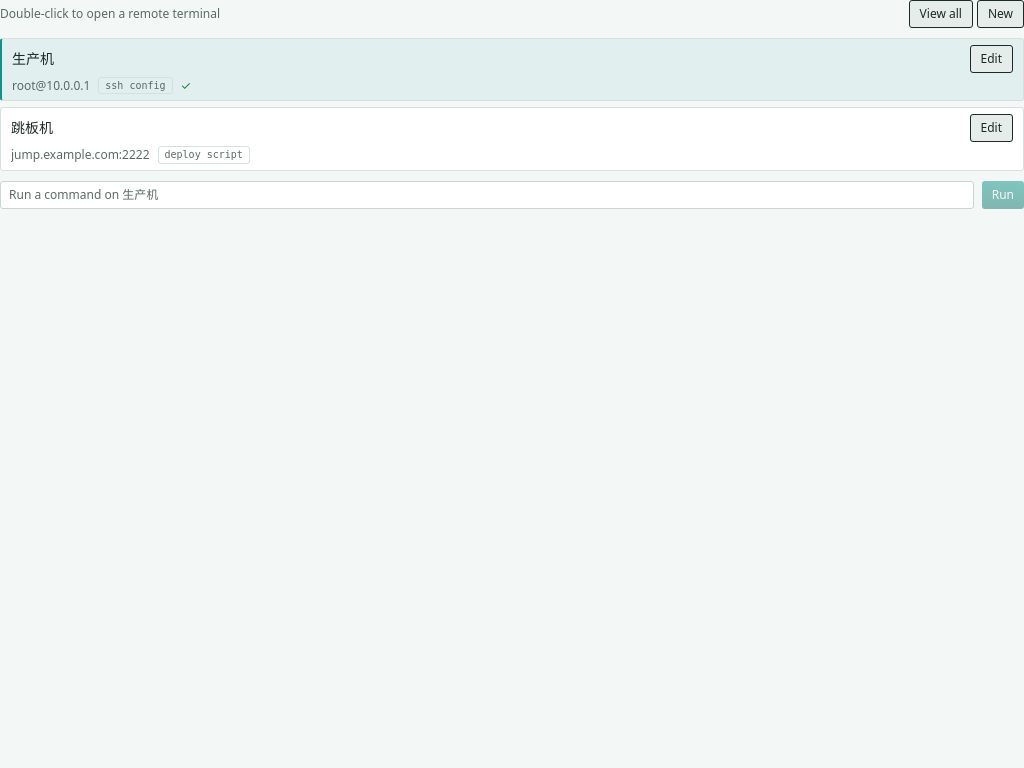
Test: SshPanel › 编辑表单含密码字段（type=password）与明文保存提示
The width and height of the screenshot is (1024, 768).
Click the 1st button "Edit" at (991, 59), box 970,45 -> 1013,73
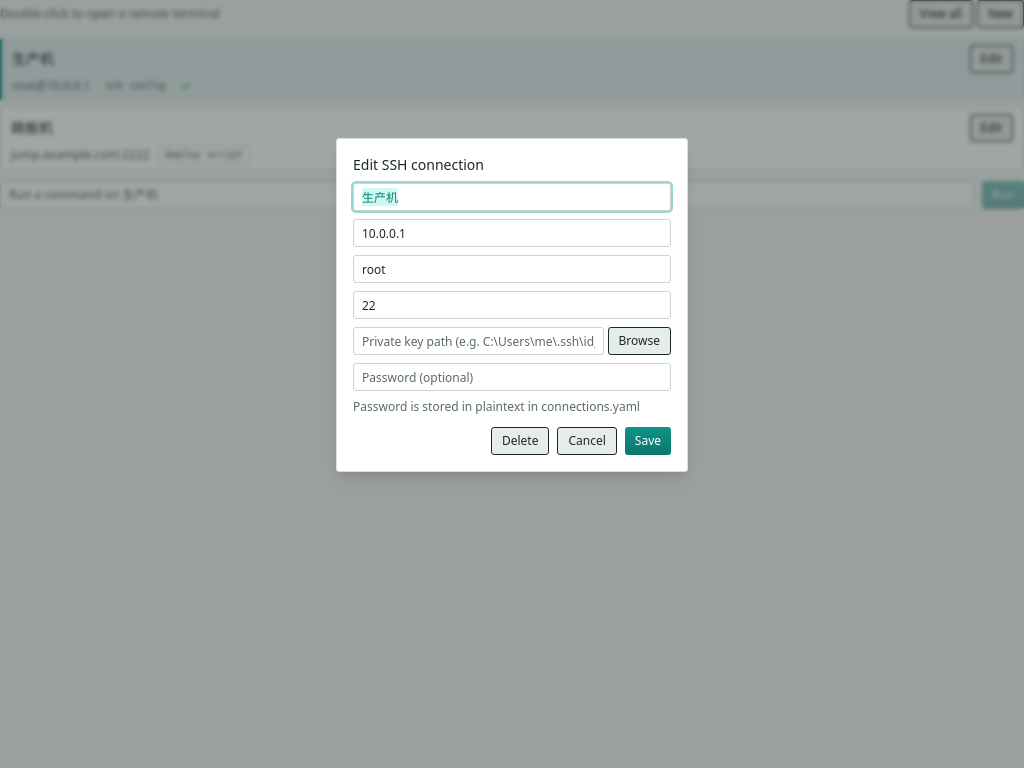
Result: the heading "Edit SSH connection" is shown at 353,155 -> 484,174
Result: the text "Password is stored in plaintext in connections.yaml" is shown at 353,399 -> 671,415
